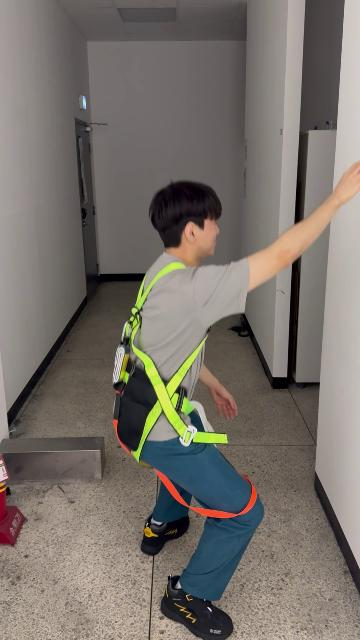helmet_not_worn: (148, 177, 222, 257)
shoe_worn: (159, 576, 232, 640), (141, 512, 190, 554)
vest_worn: (110, 265, 253, 505)
